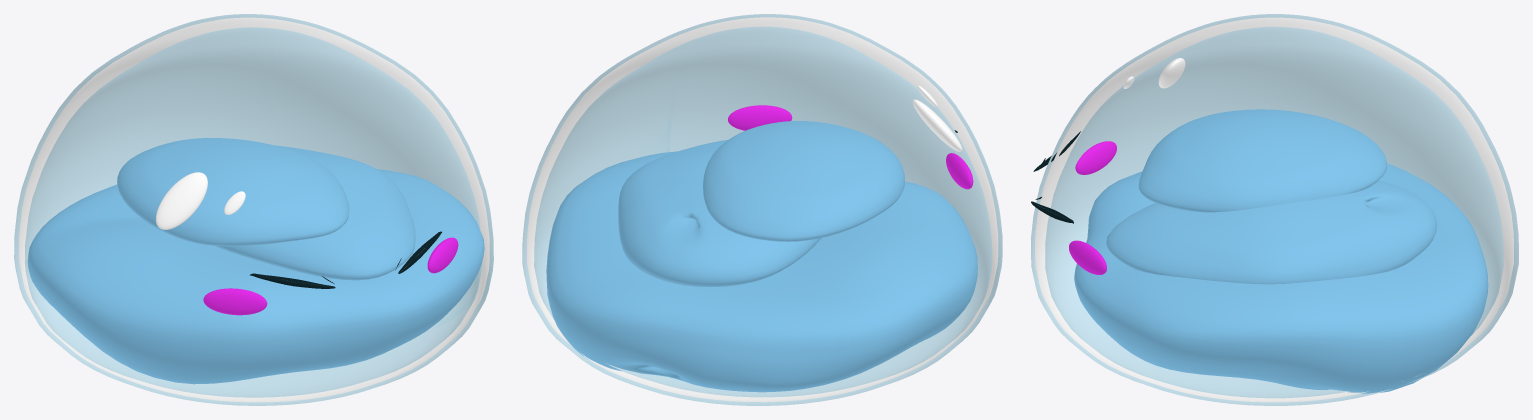
The model's file is rimuru.glb.
3 renders of one model, left to right at view 1: azimuth 30°, elevation 25°; view 2: azimuth 150°, elevation 25°; view 3: azimuth 270°, elevation 25°, orthographic.
Visible parts, largest first — view 1: Sphere.003_5, Sphere_1, Sphere.004_6, Sphere.002_4, Sphere.001_2; view 2: Sphere.003_5, Sphere_1, Sphere.002_4, Sphere.004_6; view 3: Sphere.003_5, Sphere_1, Sphere.002_4, Sphere.004_6, Sphere.001_2.
Boxes of the visible parts, <box> form: Sphere.003_5: <box>27,138,484,384</box>; Sphere_1: <box>14,14,493,405</box>; Sphere.004_6: <box>156,172,245,229</box>; Sphere.002_4: <box>203,237,458,315</box>; Sphere.001_2: <box>250,231,441,288</box>; Sphere.003_5: <box>546,121,977,392</box>; Sphere_1: <box>522,14,1002,405</box>; Sphere.002_4: <box>728,105,973,189</box>; Sphere.004_6: <box>912,85,962,151</box>; Sphere.003_5: <box>1074,109,1488,393</box>; Sphere_1: <box>1031,14,1518,405</box>; Sphere.002_4: <box>1069,141,1116,274</box>; Sphere.004_6: <box>1123,58,1185,88</box>; Sphere.001_2: <box>1031,131,1080,223</box>.
Size of the model in its own units: 1.77 by 1.32 by 1.81.
5 materials, 1 textured.
